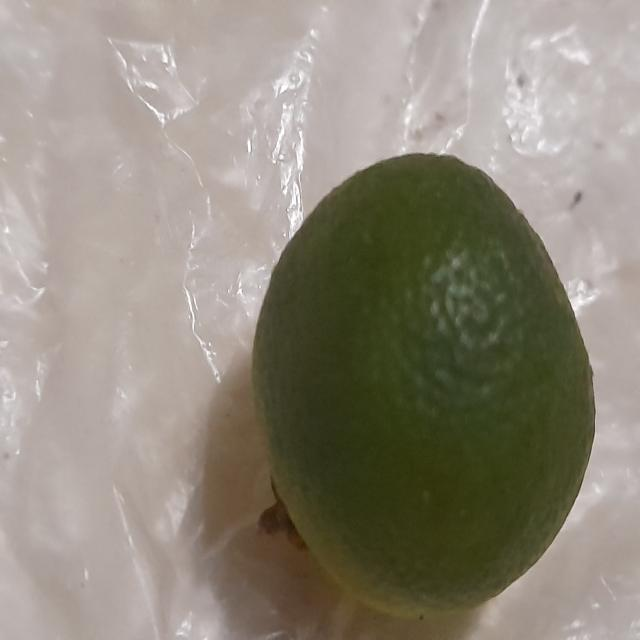heathy: (250, 140, 602, 631)
